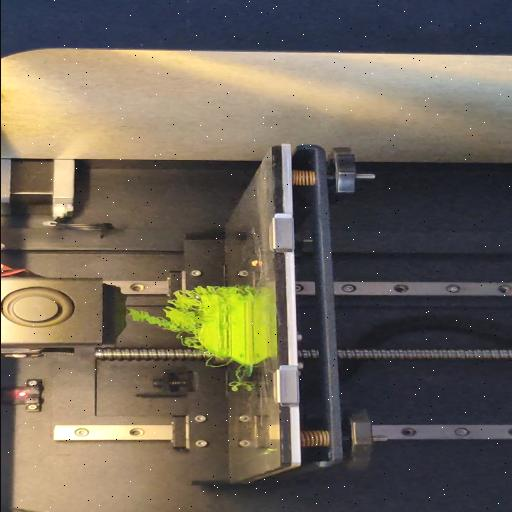spaghetti: (128, 286, 202, 348), (202, 352, 231, 370), (228, 362, 244, 392), (204, 285, 227, 295), (240, 288, 254, 292)
